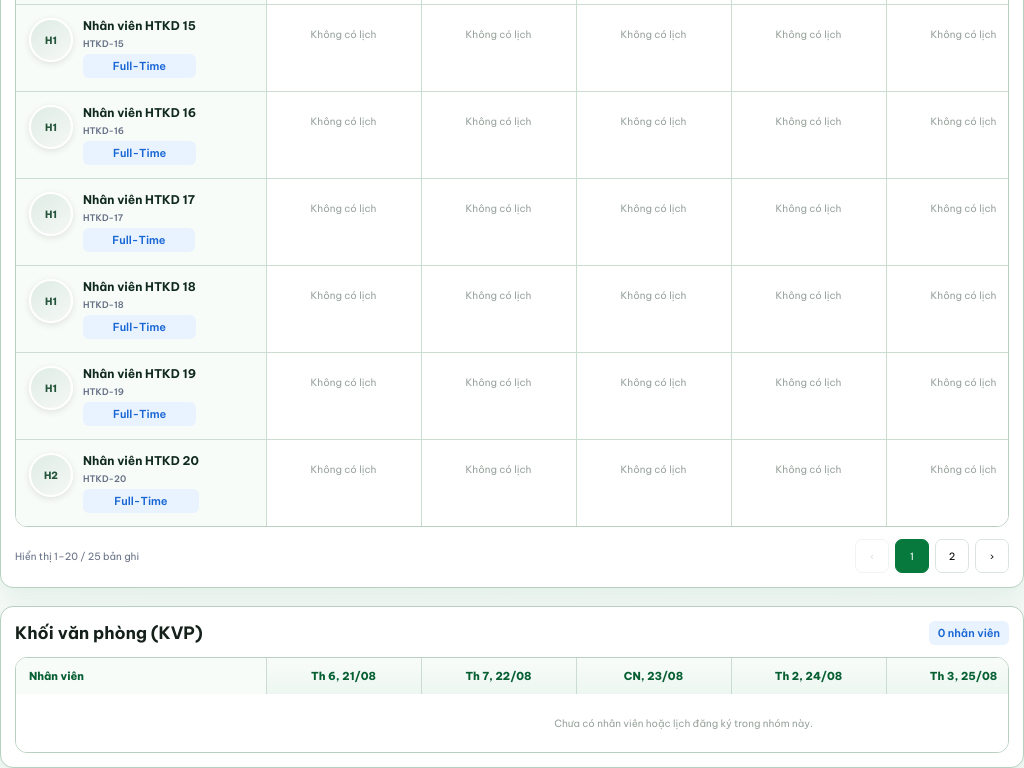
Test: Admin work registration schedule › paginates employee schedule rows at 20 records per page
The image size is (1024, 768).
(page scrolled)
Expected: the text "Nhân viên HTKD 20" is shown, [83,453,199,468]
Expected: the text "Nhân viên HTKD 21" is not shown
Step 1. Click the button named "Trang 2" → click(952, 556), box [935,539,969,573]
(page scrolled)
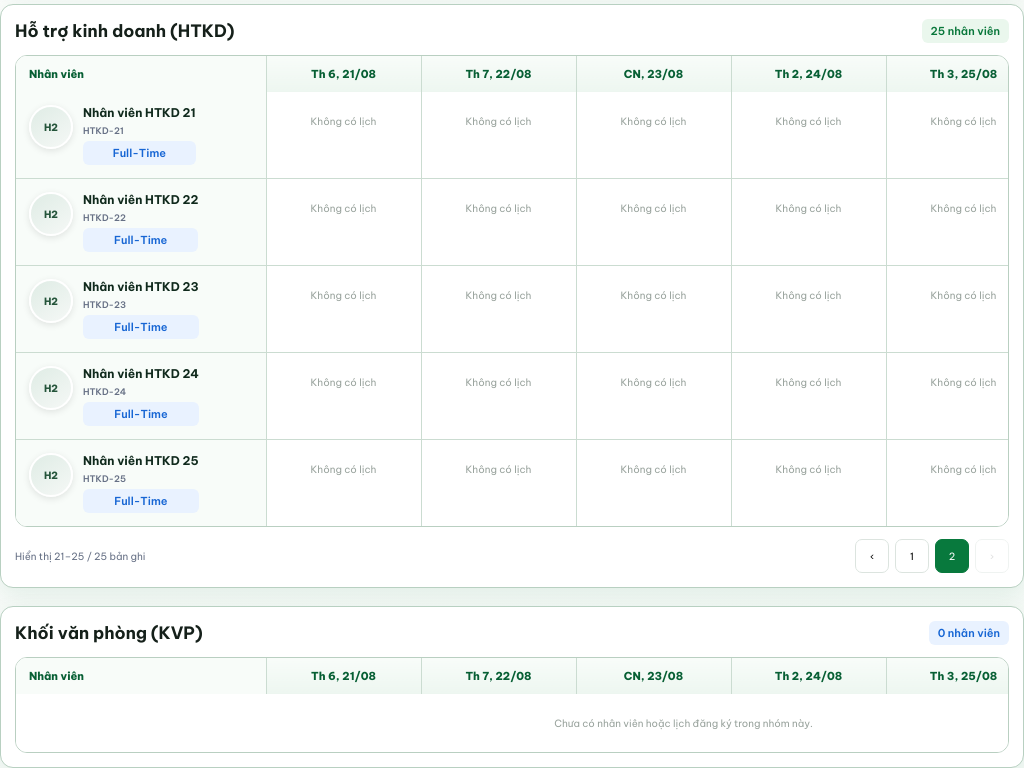
Expected: the text "Nhân viên HTKD 21" is shown, [83,105,196,120]
Expected: the text "Nhân viên HTKD 25" is shown, [83,453,199,468]
